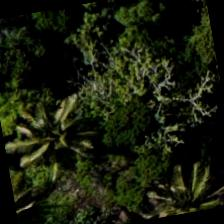Kelapa_Sawit: (0, 76, 104, 180), (137, 154, 223, 221)
